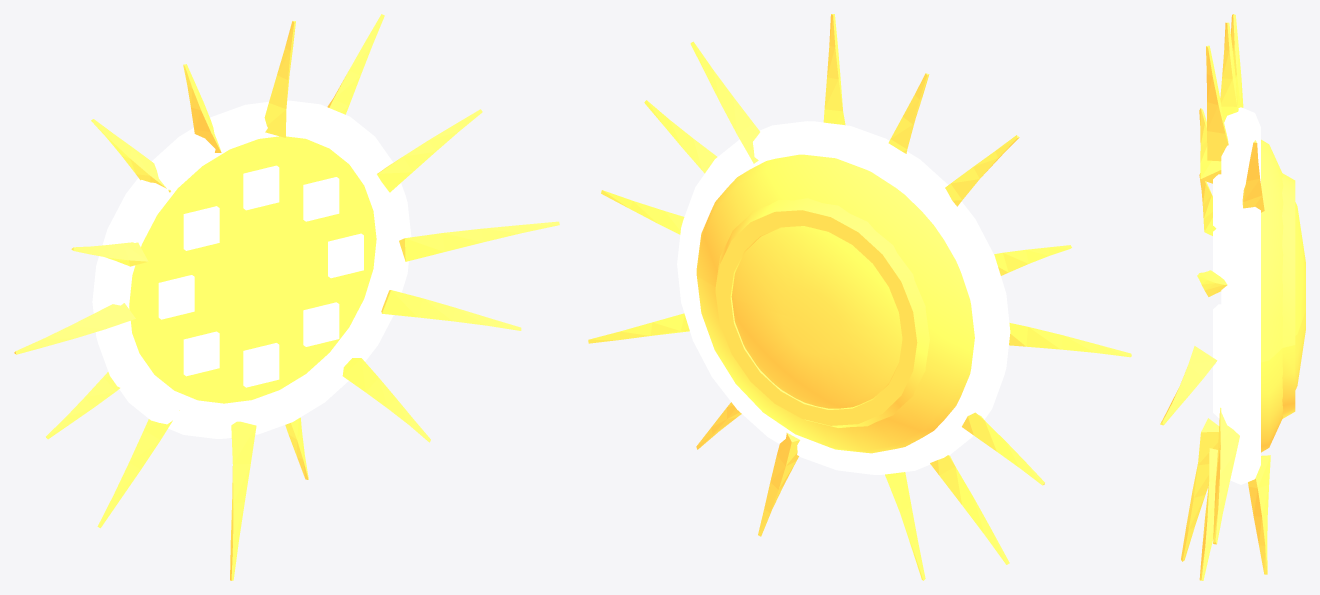
Rendered from vfx-mesh-library-armour-spark-ring-d93c2b23__21862.glb.
3 views of the same model, side by side, from view 1: azimuth 30°, elevation 25°; view 2: azimuth 150°, elevation 25°; view 3: azimuth 270°, elevation 25° (orthographic). The views are drawn at different scales.
Parts seen in each view (by area): view 1: armour-spark-ring; view 2: armour-spark-ring; view 3: armour-spark-ring.
Boxes of the visible parts, x1=… form: armour-spark-ring: x1=14, y1=14, x2=559, y2=580; armour-spark-ring: x1=588, y1=14, x2=1131, y2=580; armour-spark-ring: x1=1160, y1=14, x2=1305, y2=580.
Bounding box in the file's own units: 1.12 × 1.08 × 0.2587.
